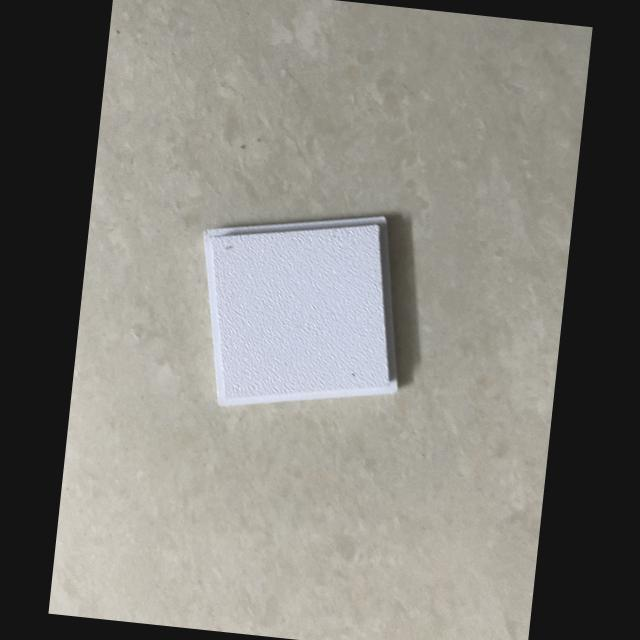RASPBERY PI CAM ENCLOSURE: (185, 197, 417, 426)
